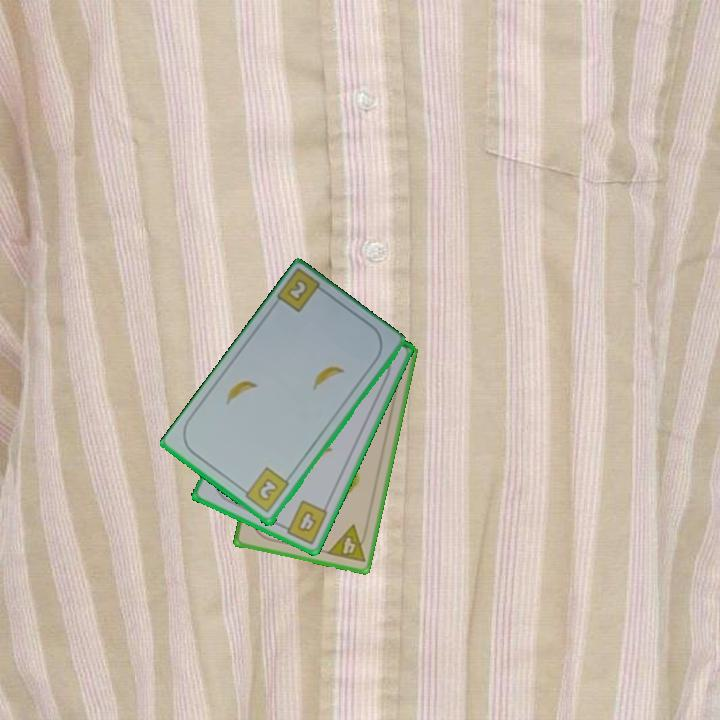2b: (273, 267, 331, 316), (238, 464, 292, 516)
4b: (277, 497, 331, 547)
4p: (323, 521, 371, 566)
